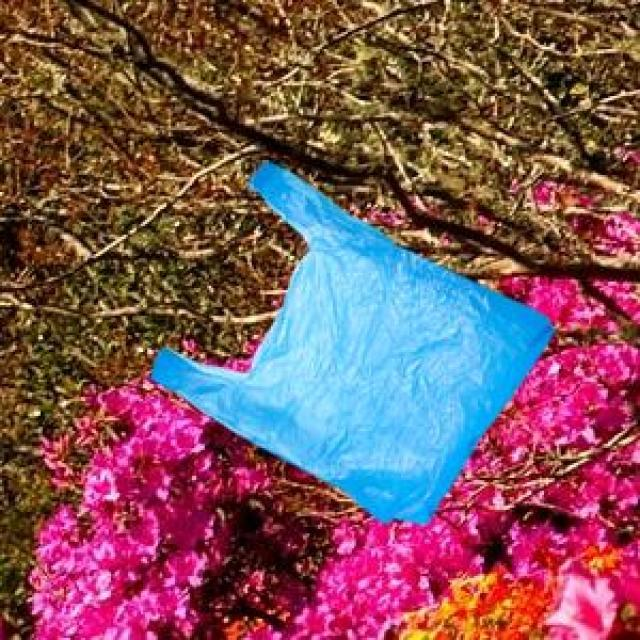Plastic_Bag: (148, 156, 552, 522)
